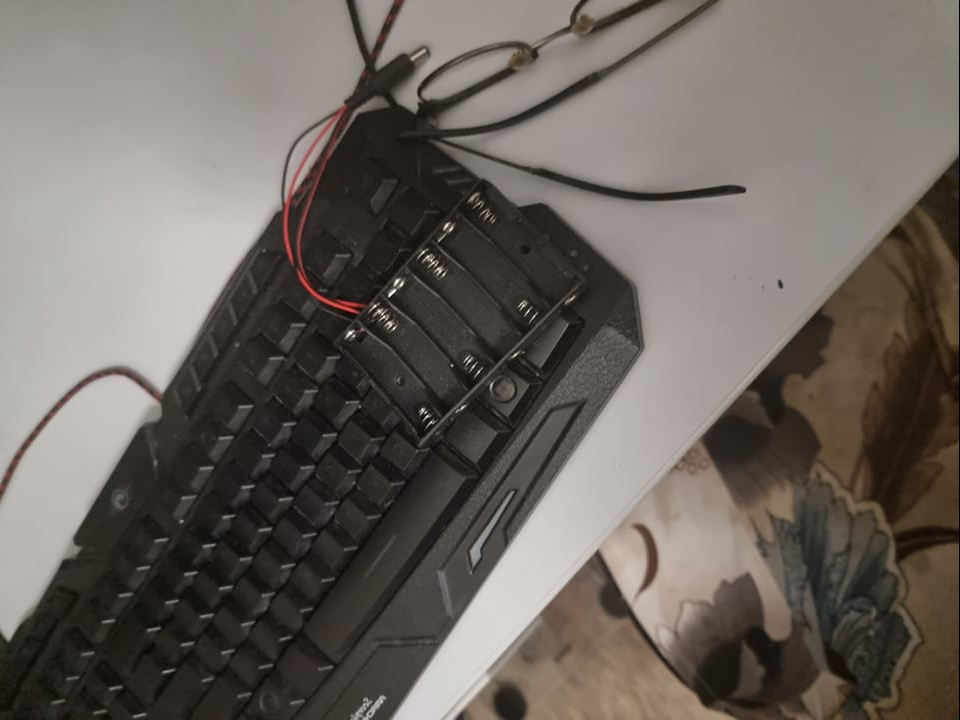BATTERY BOX: (324, 177, 601, 449)
